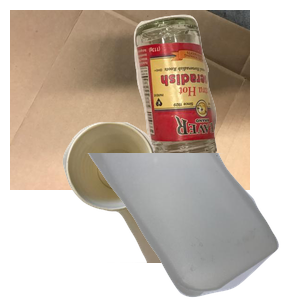cardboard: (10, 10, 250, 190)
glass: (131, 12, 300, 170)
plastic: (84, 153, 300, 300)
trash: (60, 120, 300, 300)
